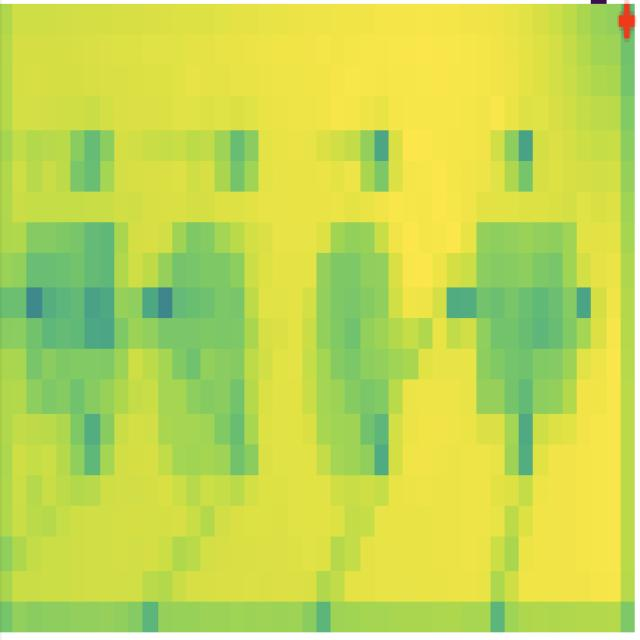Concrete: (26, 219, 132, 419)
Glass: (476, 219, 578, 414)
Metal: (166, 219, 266, 434)
Wood: (319, 225, 409, 444)
